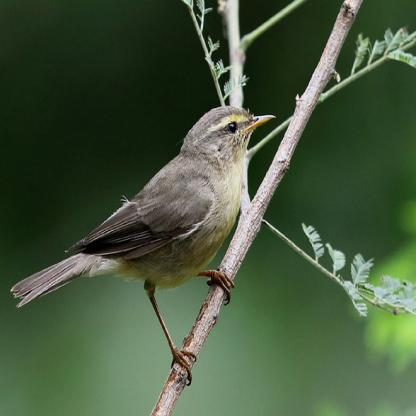Burung: (8, 102, 278, 390)
